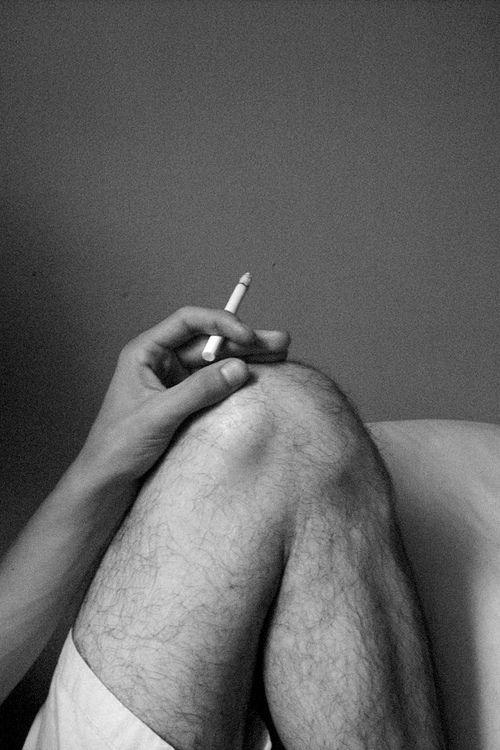cigarette: (201, 271, 253, 362)
